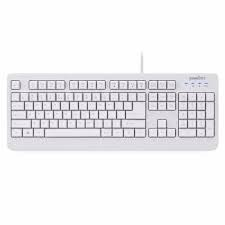keyboard: (5, 74, 222, 154)
